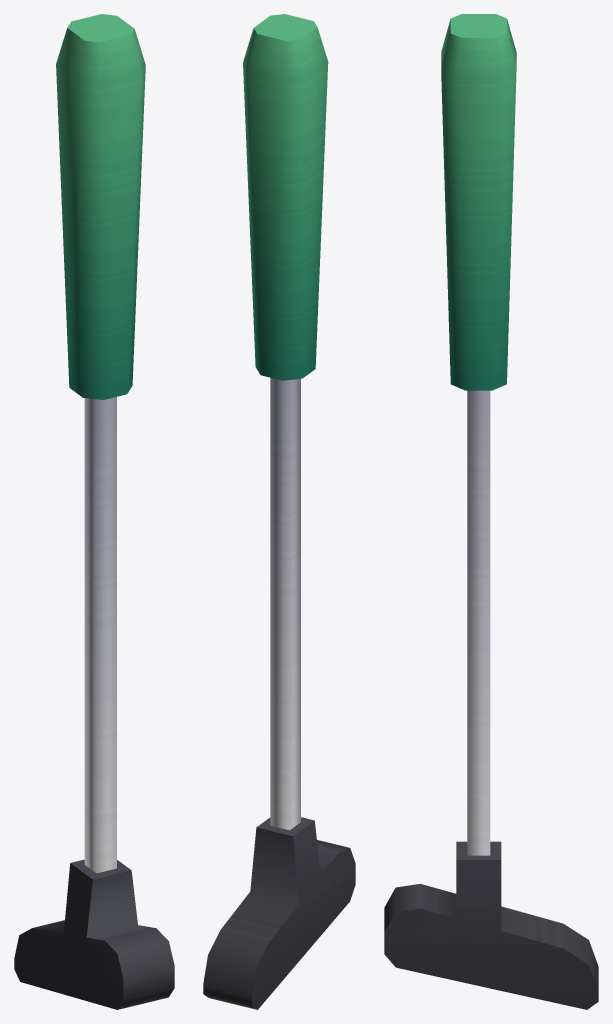
The model's file is club-green.glb.
The picture shows the model from 3 angles, left to right: view 1: azimuth 30°, elevation 25°; view 2: azimuth 150°, elevation 25°; view 3: azimuth 270°, elevation 25°; orthographic projection. The views are drawn at different scales.
Visible parts, largest first — view 1: club-green; view 2: club-green; view 3: club-green.
Part boxes in pixels (box(x1,y1,x2,y2)): club-green: box(14, 14, 174, 1009); club-green: box(203, 14, 355, 1009); club-green: box(384, 14, 598, 1009).
Size of the model in its own units: 0.0738 by 1.05 by 0.2102.
1 material, 1 textured.
